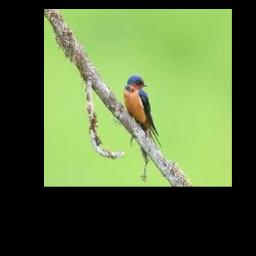Swallow: (123, 75, 161, 150)
